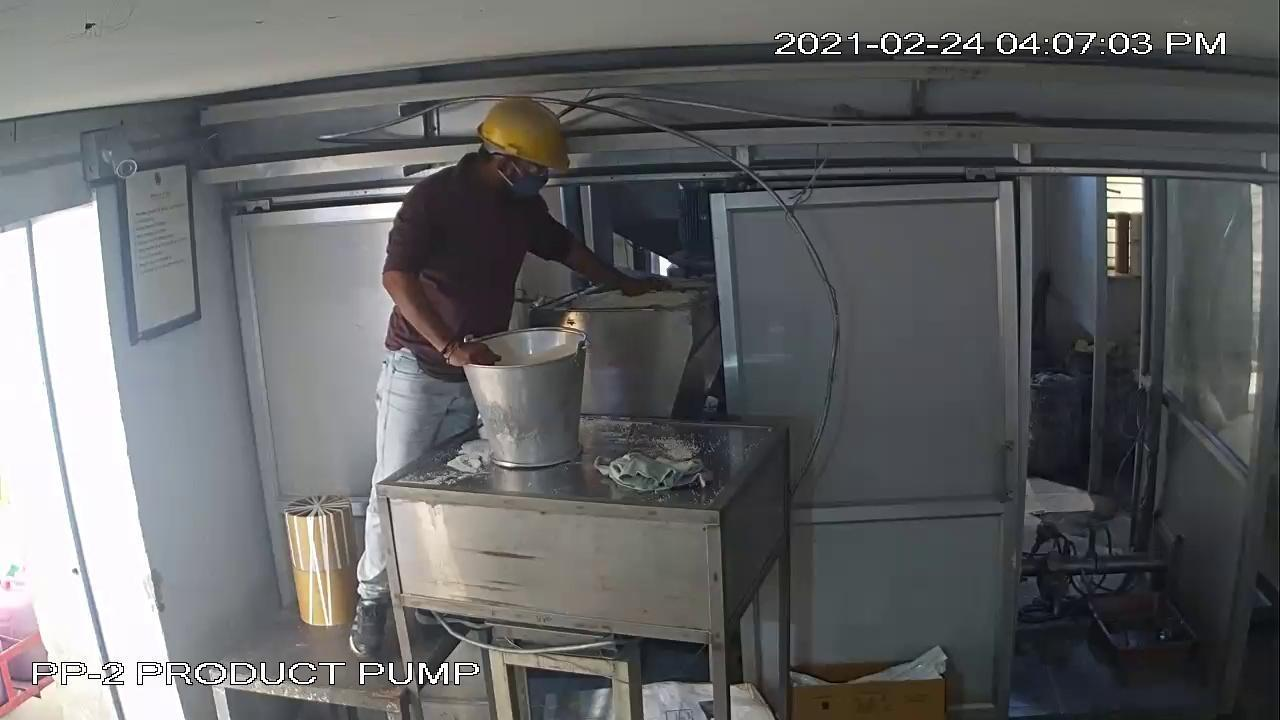helmet: (470, 90, 581, 186)
